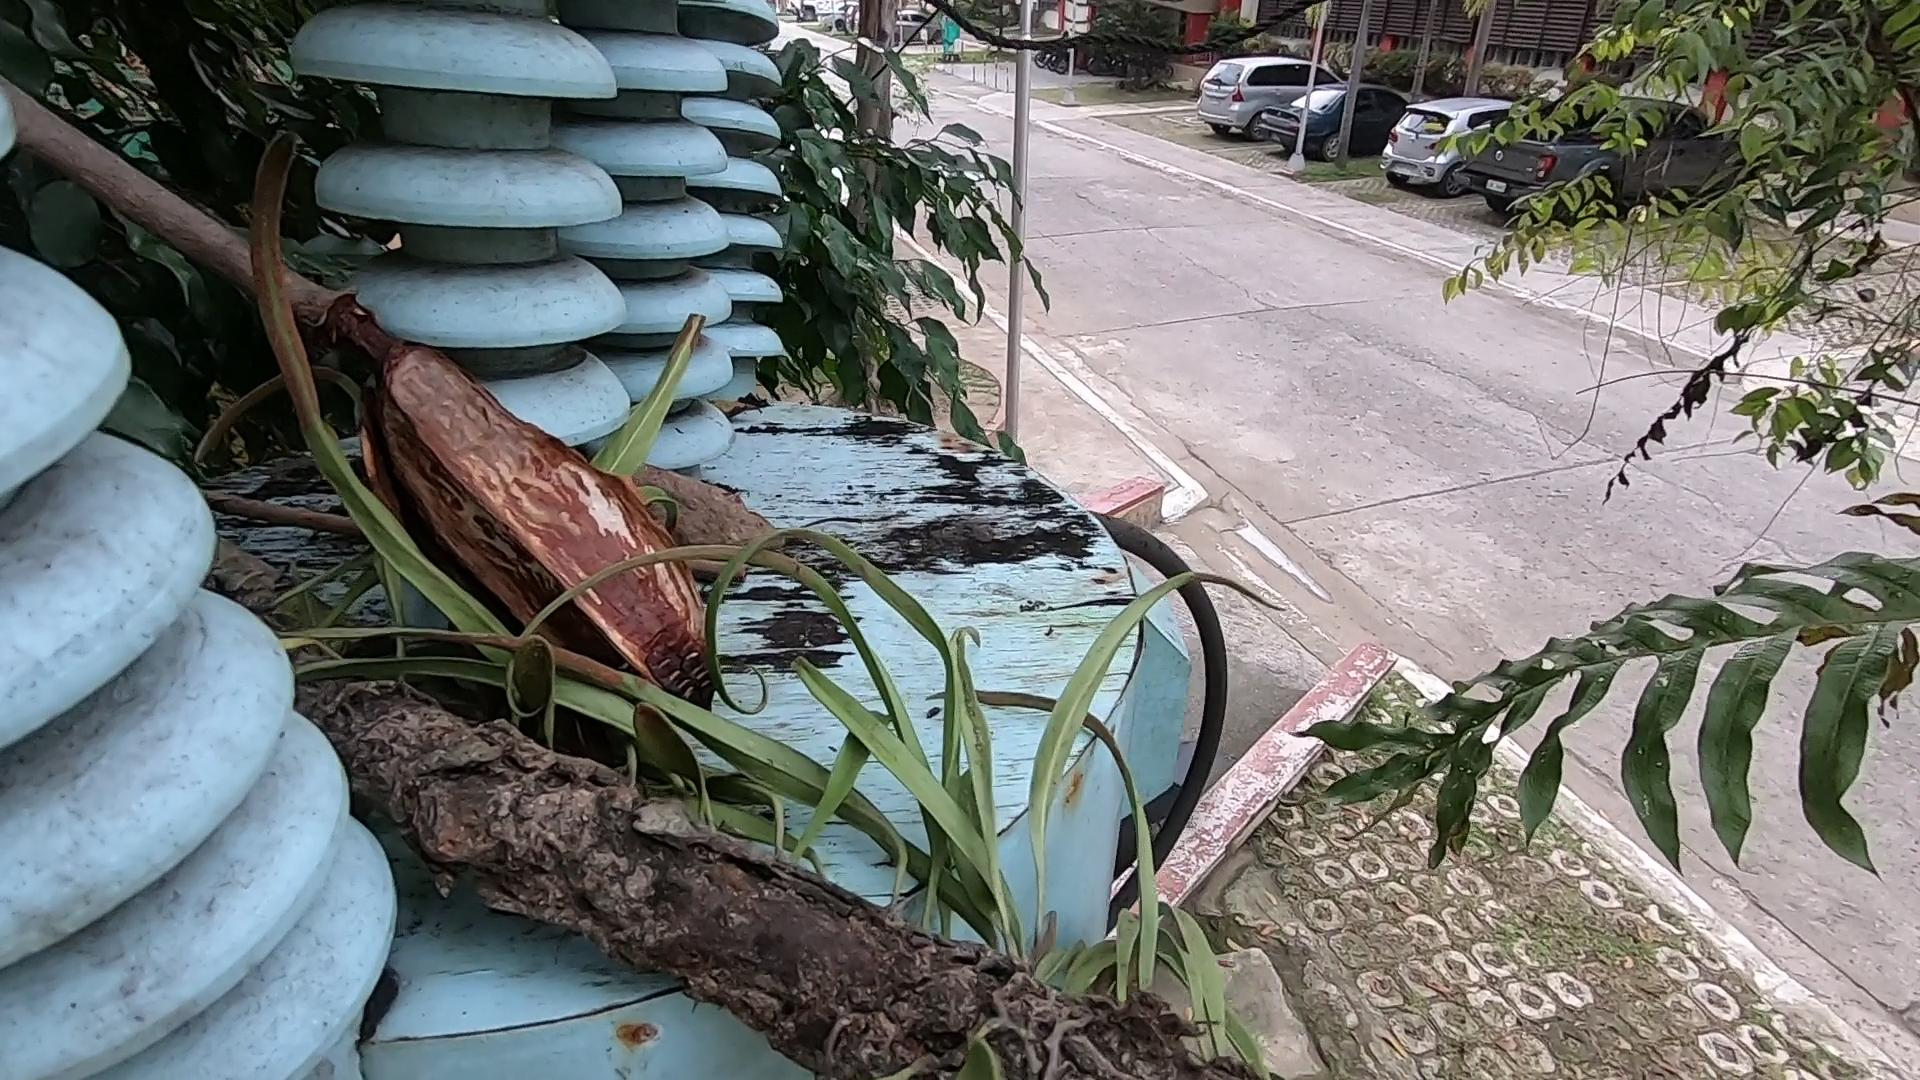branch with leaves: (285, 669, 1102, 1080)
leaf: (699, 378, 770, 440)
mahogany fruit: (229, 293, 1009, 770)
tree branch: (1, 42, 353, 584), (224, 458, 745, 592)
